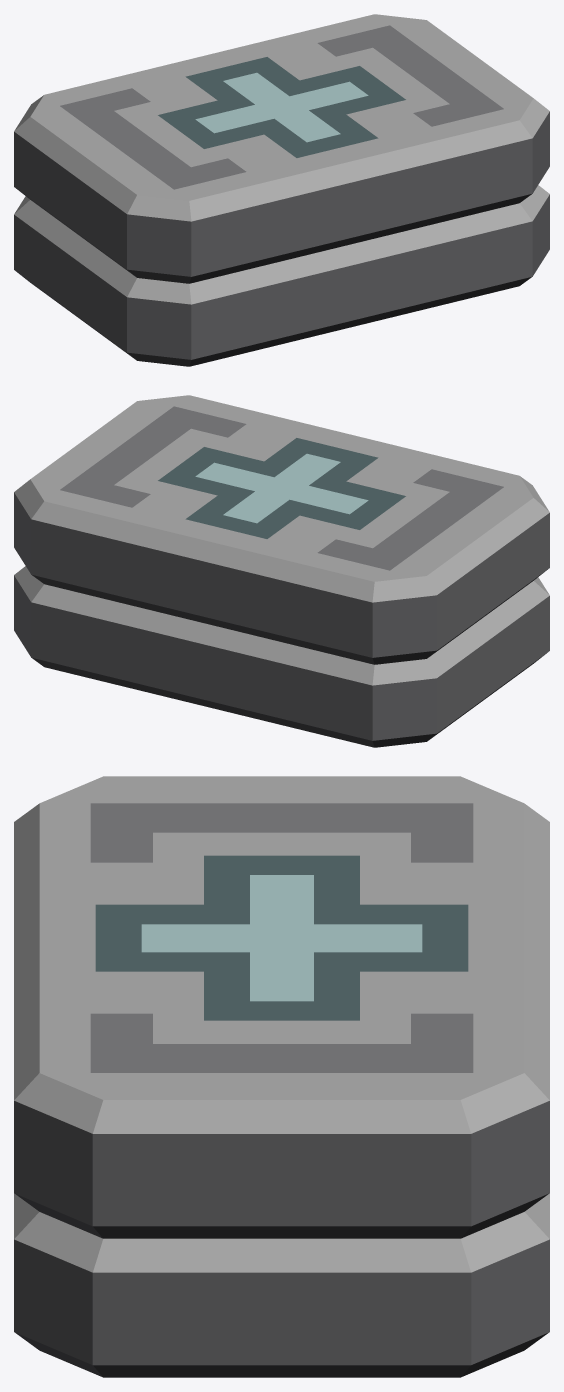
Rendered from item_medicine_ultratech_b.obj.
3 views of the same model, one above another, from view 1: azimuth 30°, elevation 25°; view 2: azimuth 150°, elevation 25°; view 3: azimuth 270°, elevation 25° (orthographic). The views are drawn at different scales.
Size of the model in its own units: 0.6976 by 0.2616 by 0.4578.
